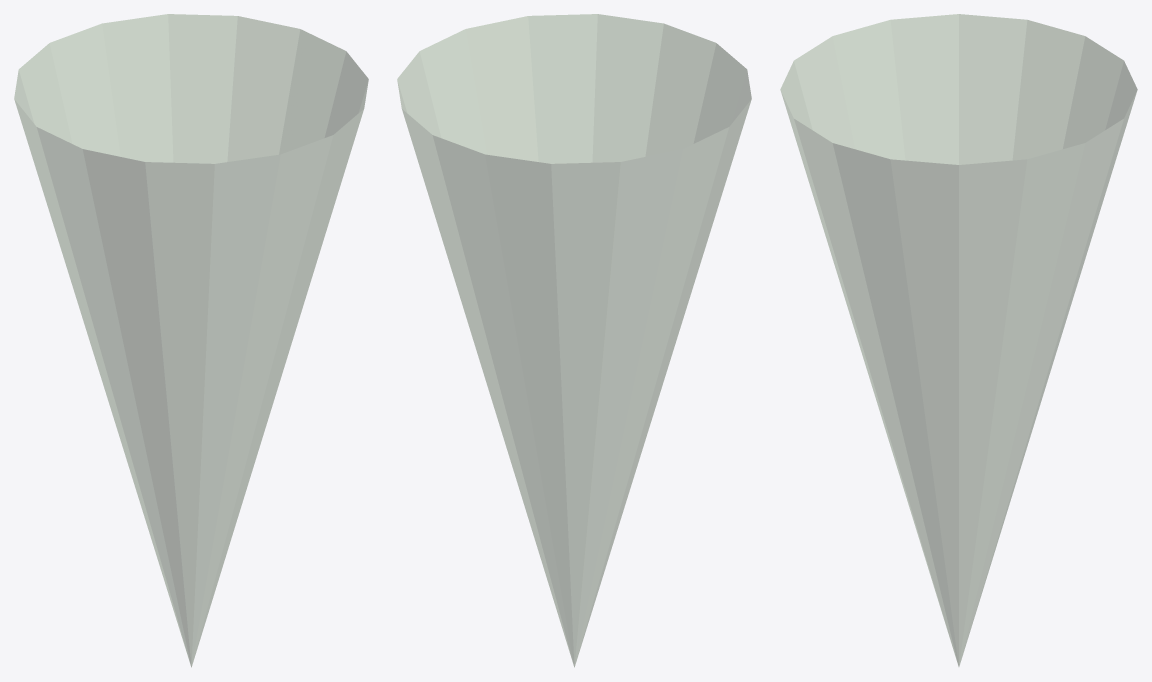
Rendered from haz_luz.obj.
The picture shows the model from 3 angles, left to right: view 1: azimuth 30°, elevation 25°; view 2: azimuth 150°, elevation 25°; view 3: azimuth 270°, elevation 25°; orthographic projection.
Visible parts, largest first — view 1: haz_cian; view 2: haz_cian; view 3: haz_cian.
Boxes of the visible parts, bbox=[...] form: haz_cian: bbox=[15, 14, 367, 666]; haz_cian: bbox=[398, 14, 750, 666]; haz_cian: bbox=[781, 14, 1136, 664].
Bounding box in the file's own units: 0.56 × 1 × 0.56.
